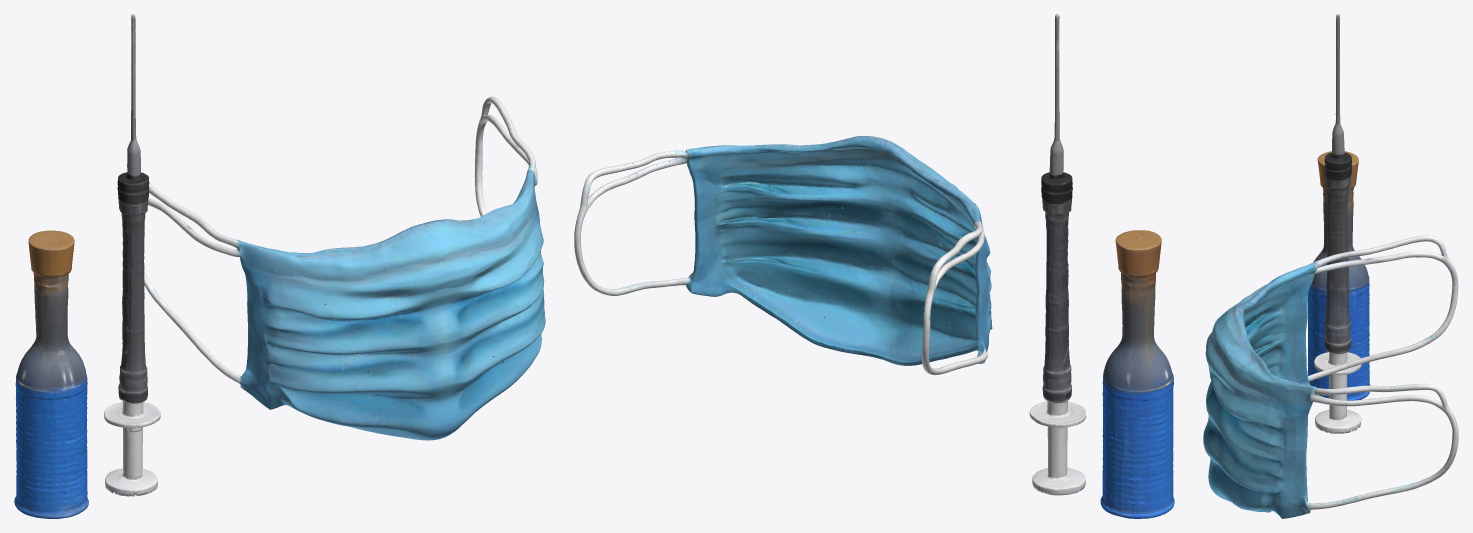
File: PreventionTuberculosis.glb
3 renders of one model, left to right at view 1: azimuth 30°, elevation 25°; view 2: azimuth 150°, elevation 25°; view 3: azimuth 270°, elevation 25°, orthographic. The views are drawn at different scales.
Visible parts, largest first — view 1: FaceMask, Syringe; view 2: FaceMask, Syringe; view 3: FaceMask, Syringe.
Part boxes in pixels (x1=…): FaceMask: x1=144, y1=96, x2=545, y2=440; Syringe: x1=14, y1=14, x2=160, y2=518; FaceMask: x1=574, y1=136, x2=992, y2=375; Syringe: x1=1029, y1=14, x2=1174, y2=518; FaceMask: x1=1203, y1=235, x2=1458, y2=518; Syringe: x1=1307, y1=14, x2=1370, y2=433.
Size of the model in its own units: 0.3029 by 0.2573 by 0.1449.
Materials: 2 (2 with a texture image).
